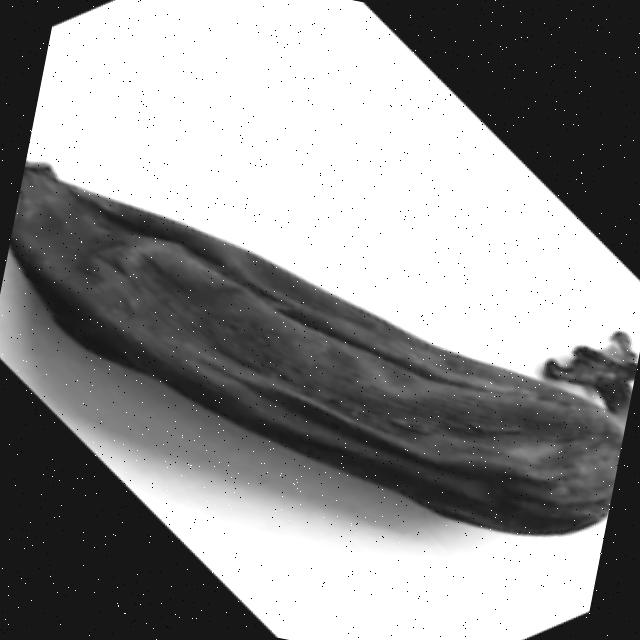Rotten: (0, 158, 640, 553)
